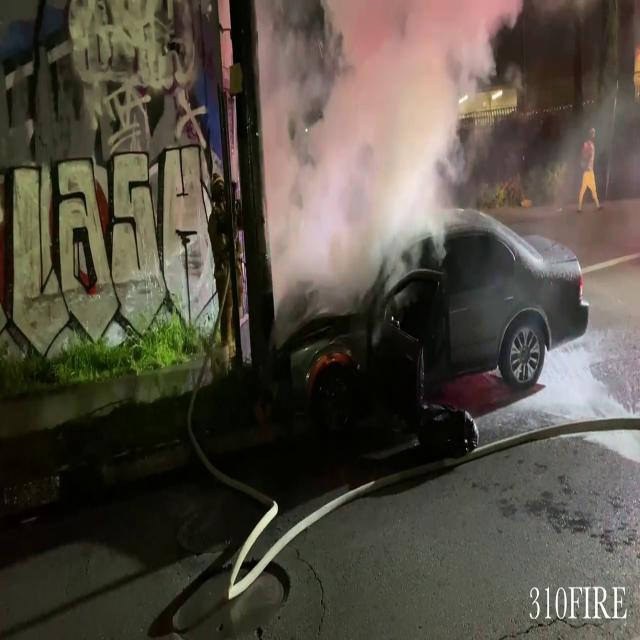Smoke: (269, 1, 495, 302)
